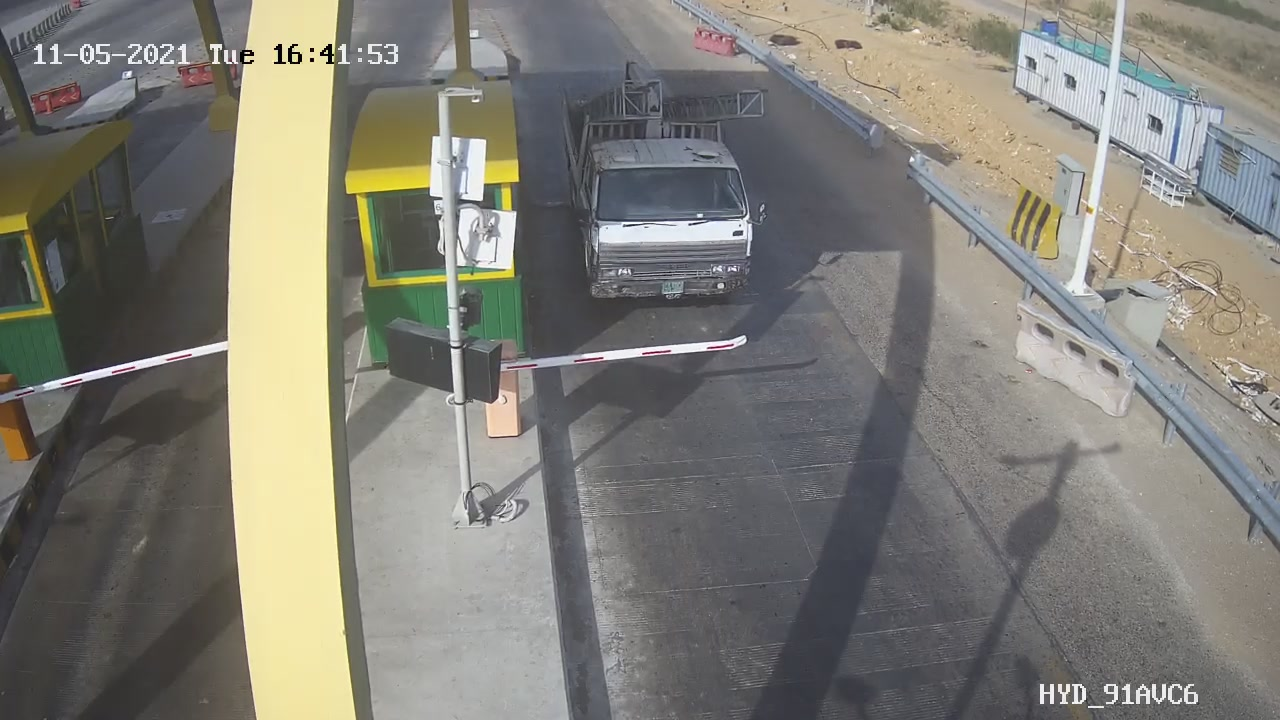F3: (538, 49, 792, 324)
